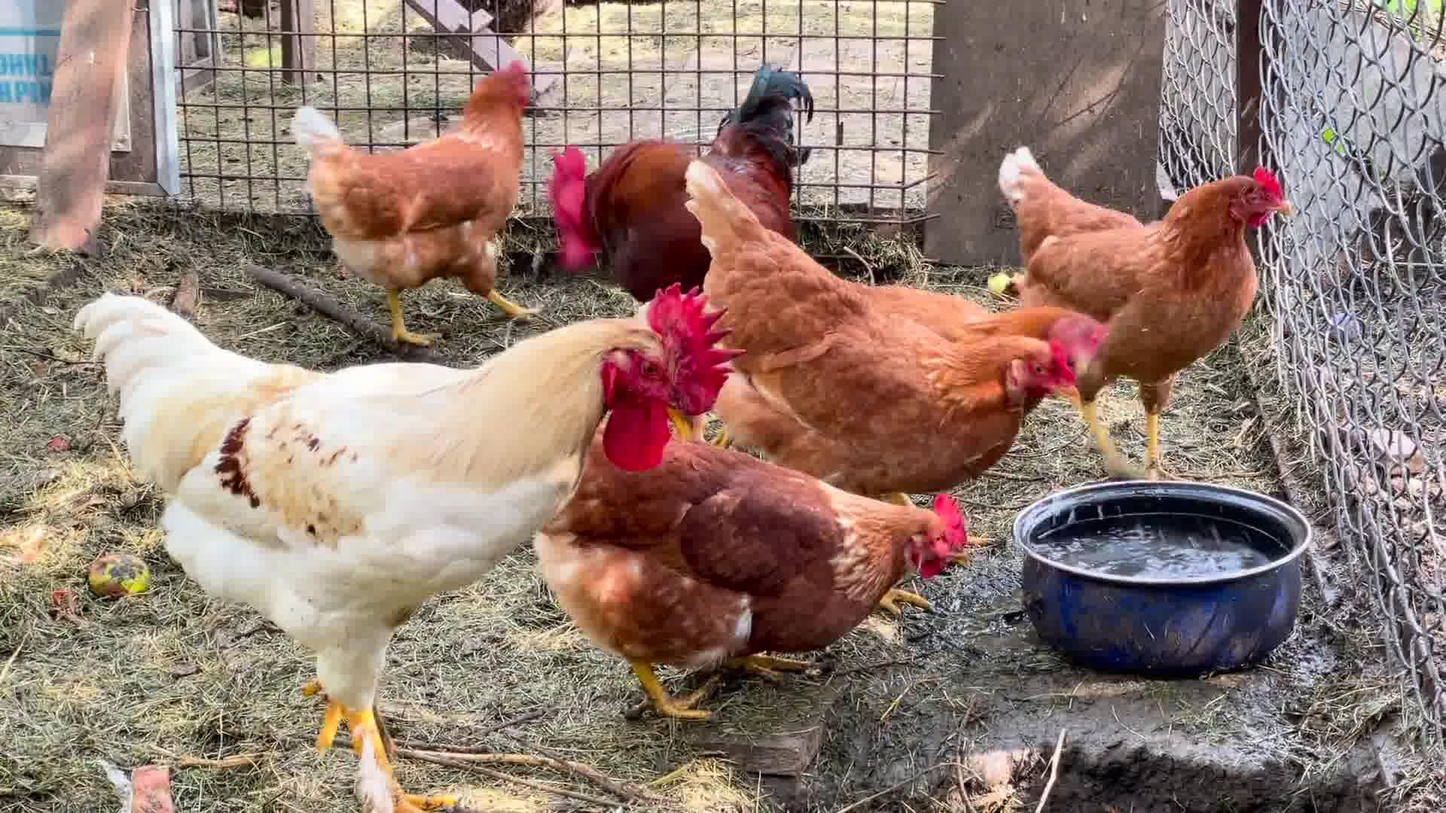Normal: (89, 292, 734, 795), (680, 164, 1131, 490), (584, 414, 991, 735), (991, 115, 1295, 485), (294, 61, 567, 362), (558, 66, 819, 306)
